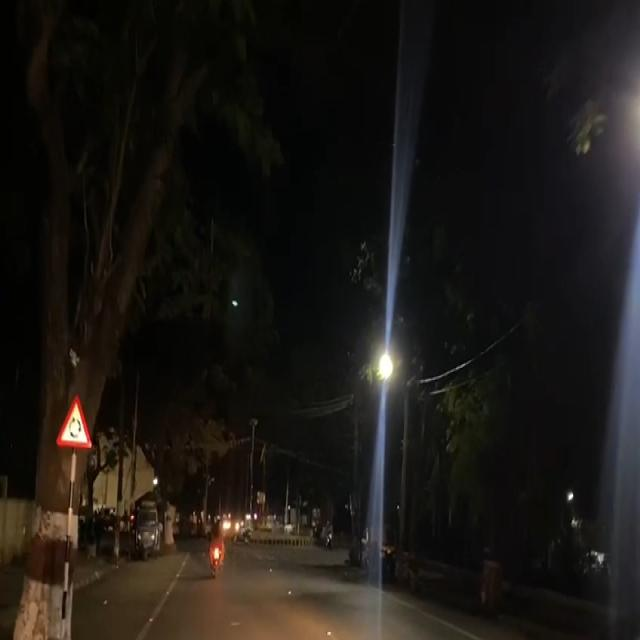bien_cam: (54, 389, 93, 454)
